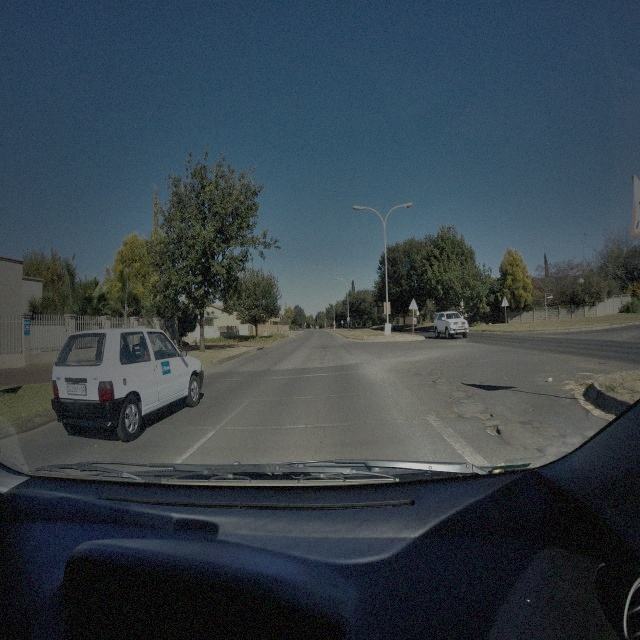pothole: (473, 408, 492, 420), (437, 412, 461, 419), (486, 427, 501, 437), (459, 396, 477, 402), (426, 379, 436, 385)
